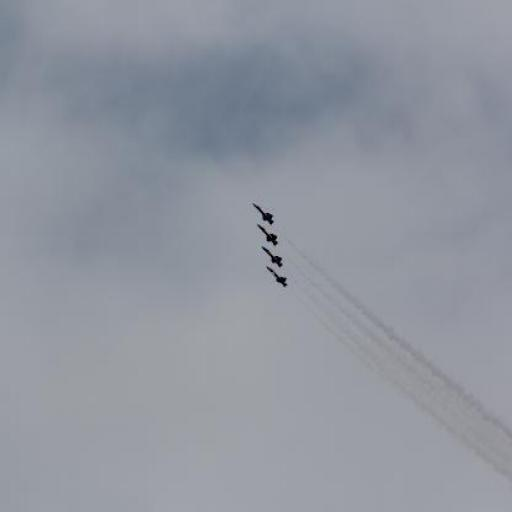aircraft: (251, 223, 283, 250), (256, 239, 284, 267), (262, 261, 289, 289), (254, 198, 278, 227)
